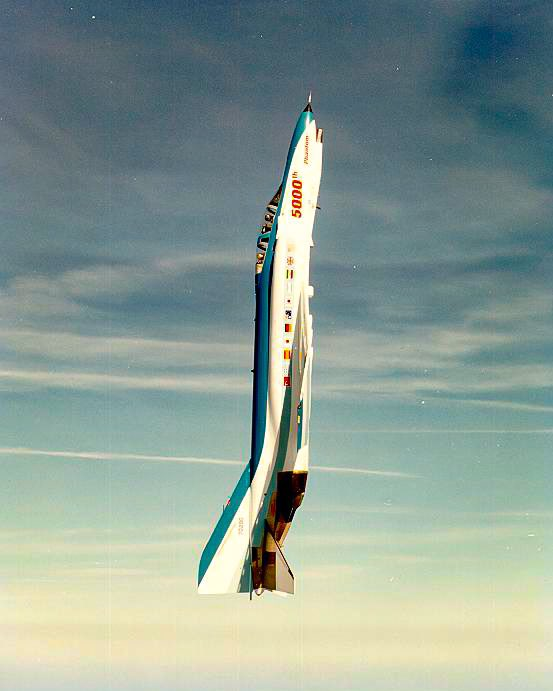F4: (197, 90, 323, 601)
